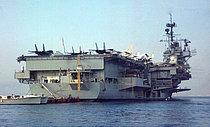MIL_Ship: (15, 16, 194, 101)
